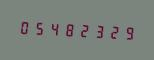eight: (62, 19, 76, 39)
five: (32, 17, 46, 38)
four: (47, 18, 61, 39)
nine: (122, 22, 136, 43)
three: (92, 20, 106, 41)
two: (107, 21, 121, 42), (77, 20, 91, 40)
zero: (17, 16, 31, 37)
